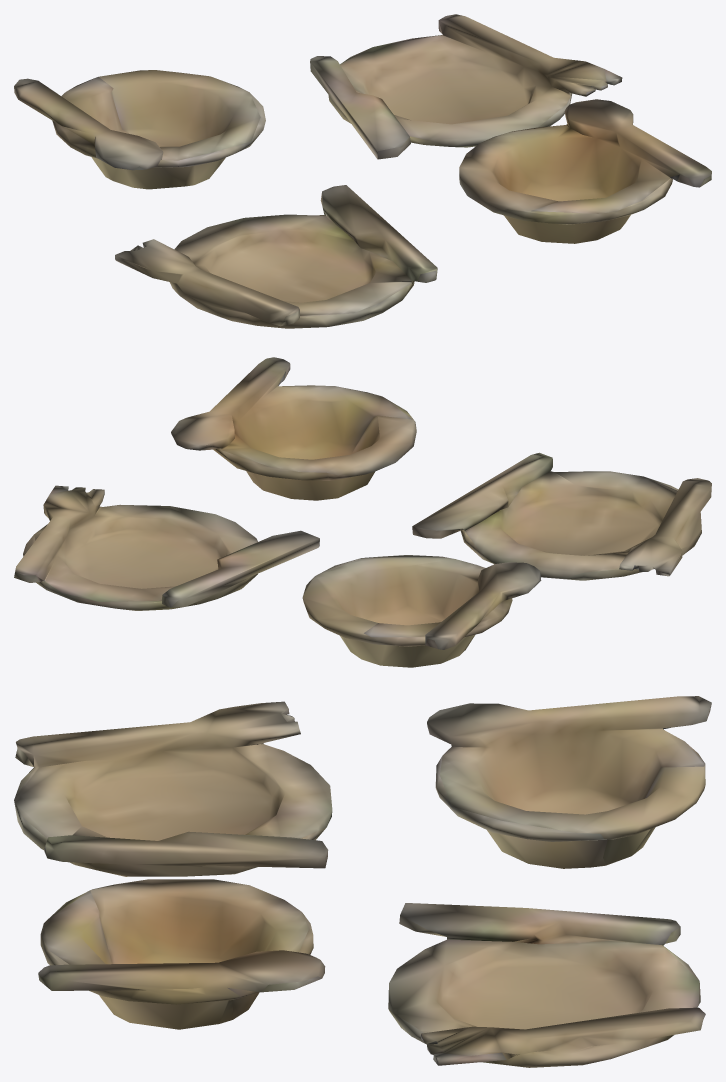
Rendered from TABLEWARE_SET-medium.glb.
3 views of the same model, one above another, from view 1: azimuth 30°, elevation 25°; view 2: azimuth 150°, elevation 25°; view 3: azimuth 270°, elevation 25° (orthographic). The views are drawn at different scales.
Visible parts, largest first — view 1: TABLEWARE_SET; view 2: TABLEWARE_SET; view 3: TABLEWARE_SET.
Part boxes in pixels (x1,y1,x2,y2): TABLEWARE_SET: (14, 14, 711, 328); TABLEWARE_SET: (14, 357, 711, 667); TABLEWARE_SET: (14, 696, 711, 1067).
Size of the model in its own units: 0.3503 by 0.0399 by 0.2928.
Materials: 1 (1 with a texture image).
